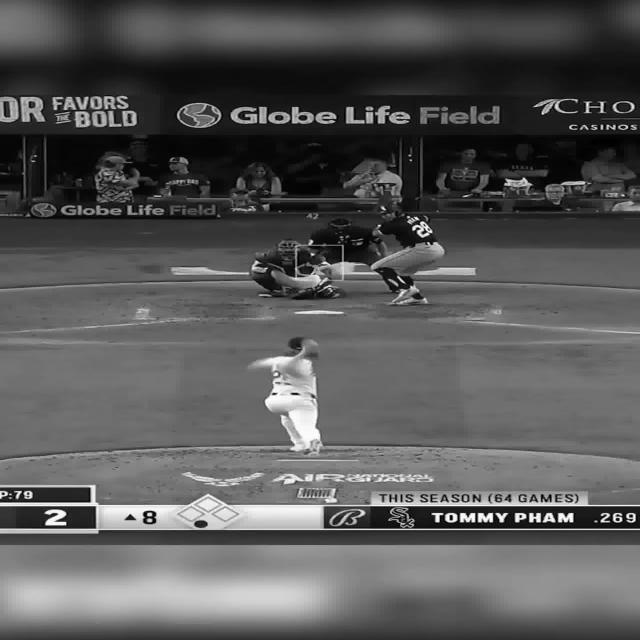baseball_glove: (288, 268, 315, 278)
shoe: (388, 287, 419, 304), (389, 296, 429, 306), (303, 439, 323, 456), (258, 288, 284, 297), (288, 445, 307, 452)
